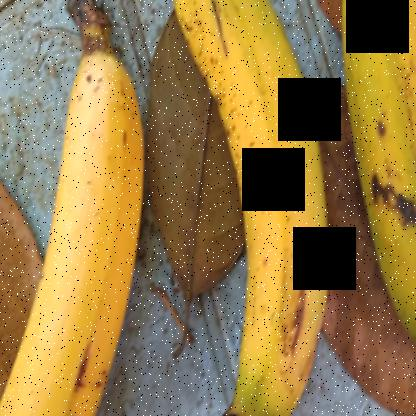freshripe: (3, 45, 147, 412)
ripe: (170, 0, 334, 415), (314, 0, 415, 354)
